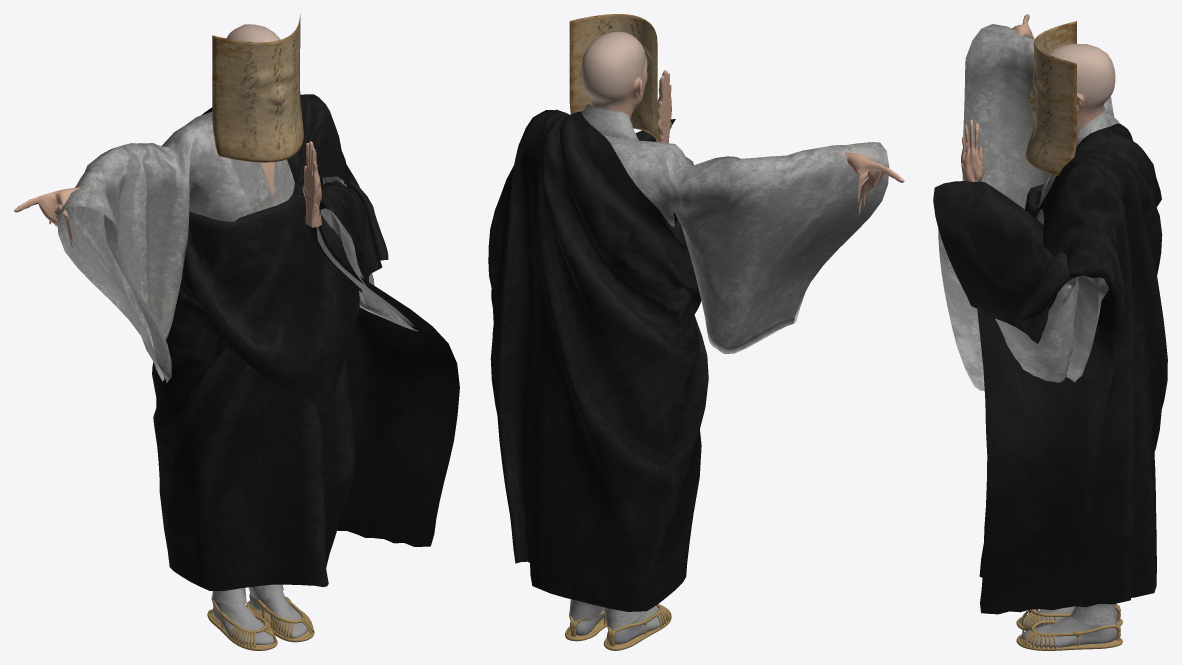
The model's file is monk-pointing-left.glb.
3 views of the same model, side by side, from view 1: azimuth 30°, elevation 25°; view 2: azimuth 150°, elevation 25°; view 3: azimuth 270°, elevation 25° (orthographic).
Visible parts, largest first — view 1: CorridorGuide_gasa001_gasa_0, CorridorGuide_upper001_upper_0, Face_Aged_Paper, CorridorGuide_man001_man_0, CorridorGuide_ChamferBox004_shoes_0, CorridorGuide_pants001_pants_0; view 2: CorridorGuide_gasa001_gasa_0, CorridorGuide_upper001_upper_0, CorridorGuide_man001_man_0, Face_Aged_Paper, CorridorGuide_ChamferBox004_shoes_0, CorridorGuide_pants001_pants_0; view 3: CorridorGuide_gasa001_gasa_0, CorridorGuide_upper001_upper_0, CorridorGuide_man001_man_0, Face_Aged_Paper, CorridorGuide_ChamferBox004_shoes_0, CorridorGuide_pants001_pants_0.
Boxes of the visible parts, box(x1,y1,x2,y2) form: CorridorGuide_gasa001_gasa_0: box(152, 94, 459, 590); CorridorGuide_upper001_upper_0: box(56, 111, 417, 383); Face_Aged_Paper: box(212, 14, 303, 162); CorridorGuide_man001_man_0: box(14, 24, 321, 644); CorridorGuide_ChamferBox004_shoes_0: box(207, 596, 314, 650); CorridorGuide_pants001_pants_0: box(212, 584, 283, 604); CorridorGuide_gasa001_gasa_0: box(488, 109, 708, 611); CorridorGuide_upper001_upper_0: box(582, 104, 889, 353); CorridorGuide_man001_man_0: box(572, 31, 904, 644); Face_Aged_Paper: box(569, 14, 660, 141); CorridorGuide_ChamferBox004_shoes_0: box(565, 604, 671, 650); CorridorGuide_pants001_pants_0: box(569, 599, 640, 628); CorridorGuide_gasa001_gasa_0: box(933, 123, 1167, 614); CorridorGuide_upper001_upper_0: box(938, 24, 1119, 390); CorridorGuide_man001_man_0: box(961, 14, 1117, 647); Face_Aged_Paper: box(1025, 21, 1076, 175); CorridorGuide_ChamferBox004_shoes_0: box(1016, 604, 1122, 650); CorridorGuide_pants001_pants_0: box(1070, 603, 1116, 625).
Size of the model in its own units: 1.19 by 1.6 by 0.5745.
Materials: 8 (6 with a texture image).
